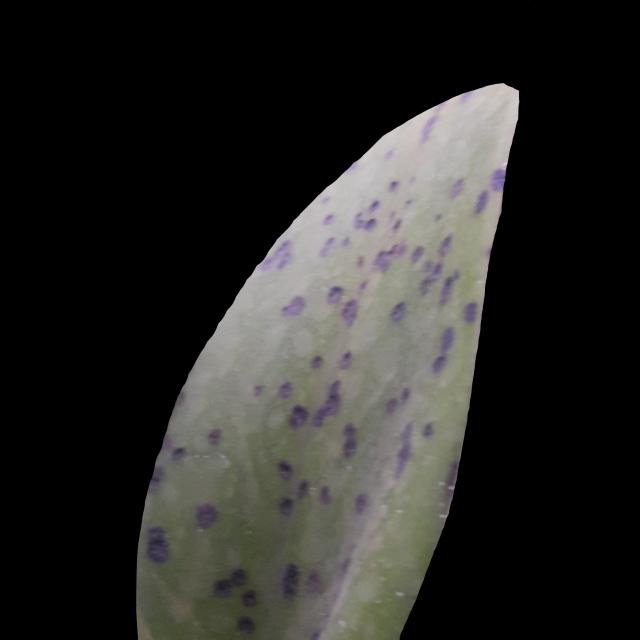mite: (144, 374, 366, 634), (207, 558, 327, 634), (209, 565, 262, 634), (211, 566, 249, 598), (145, 525, 170, 564), (280, 561, 301, 600), (287, 402, 309, 430), (211, 576, 233, 598), (389, 299, 407, 323), (275, 458, 293, 481), (461, 300, 478, 324), (352, 491, 369, 515), (235, 614, 255, 634), (239, 587, 259, 607), (276, 495, 295, 516), (230, 566, 247, 587)
sunburn: (133, 82, 522, 638)
